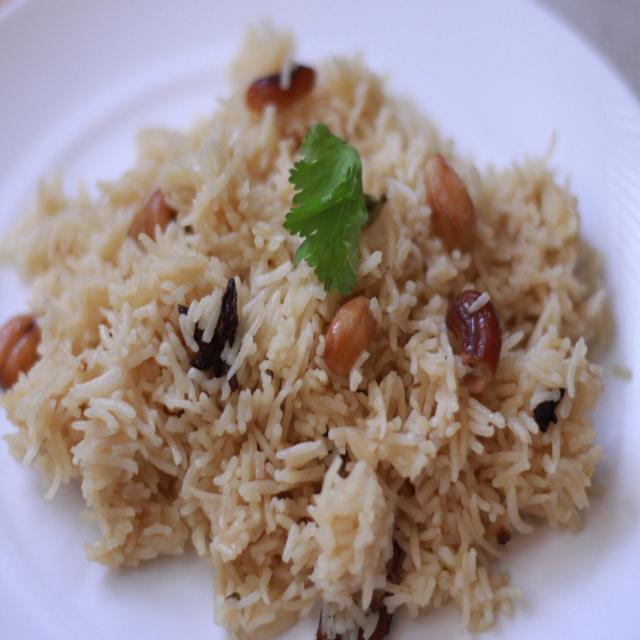nei satham: (0, 0, 610, 603)
